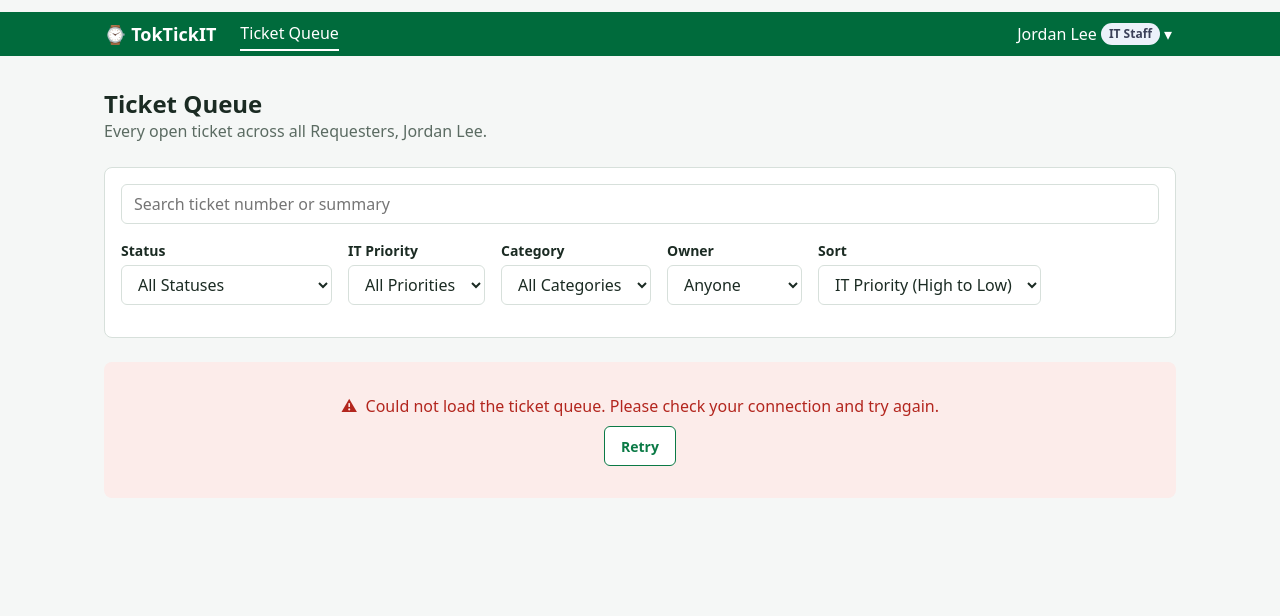
Test case: Failure state (ErrorState + Retry) › shows role=alert with the documented message when the fetch rejects; Retry re-fetches and recovers
Expected: the message shows "Could not load the ticket queue. Please check your connection and try again.", [366,395,939,417]
Click the button "Retry": {"x": 640, "y": 446} [604,426,676,466]
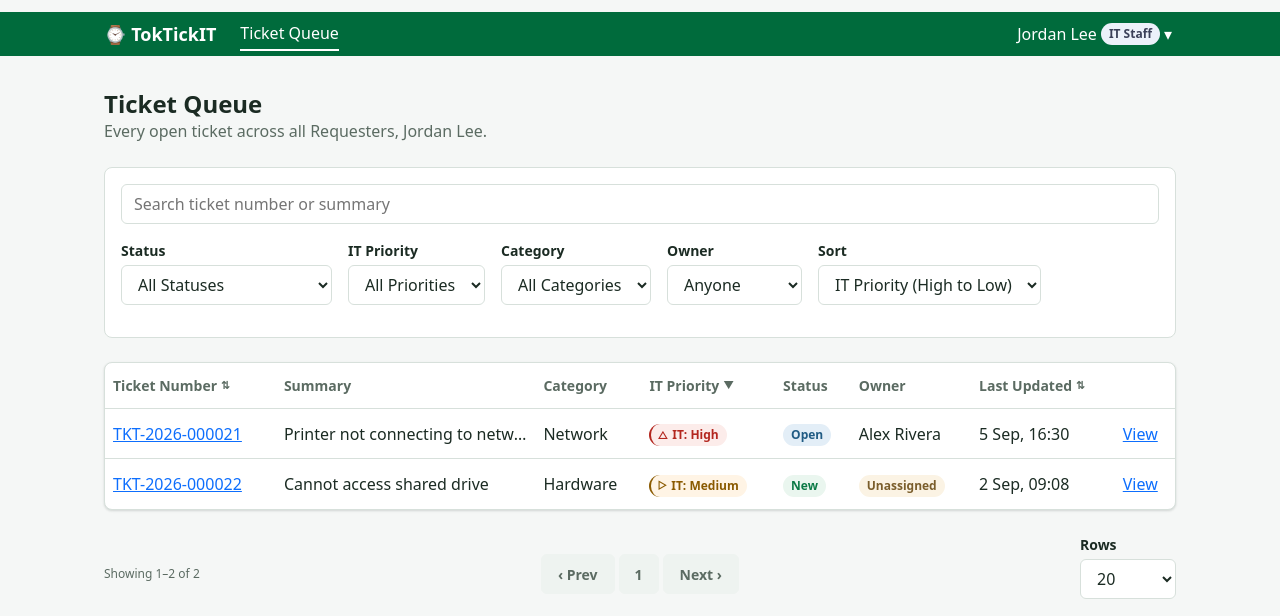
Expected: the table is shown, [105,363,1175,509]
Expected: the message is gone
